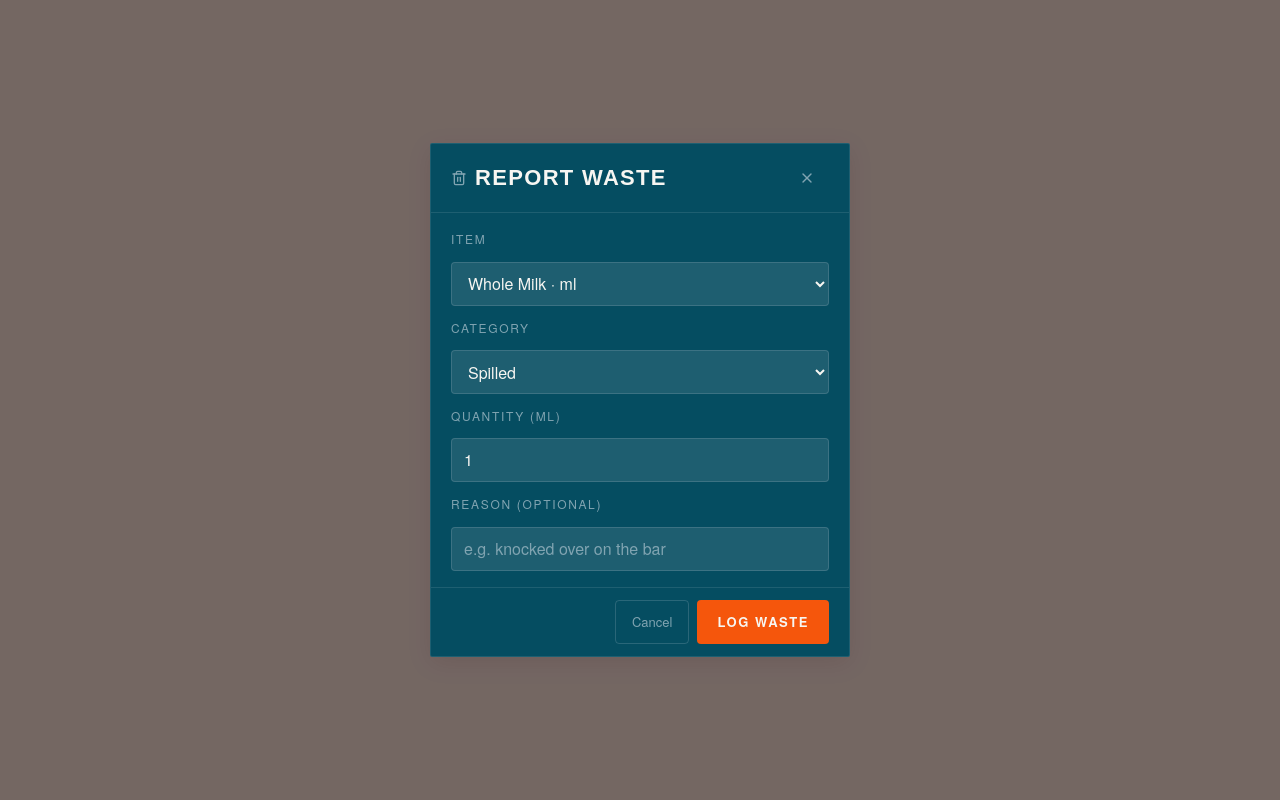
it: WasteDialog quantity › shows a visible message for 0 and logs nothing
Replace the text in the number field labelled "Quantity (ml)" with "0". click: {"x": 640, "y": 460}
box: 451,438 -> 829,482
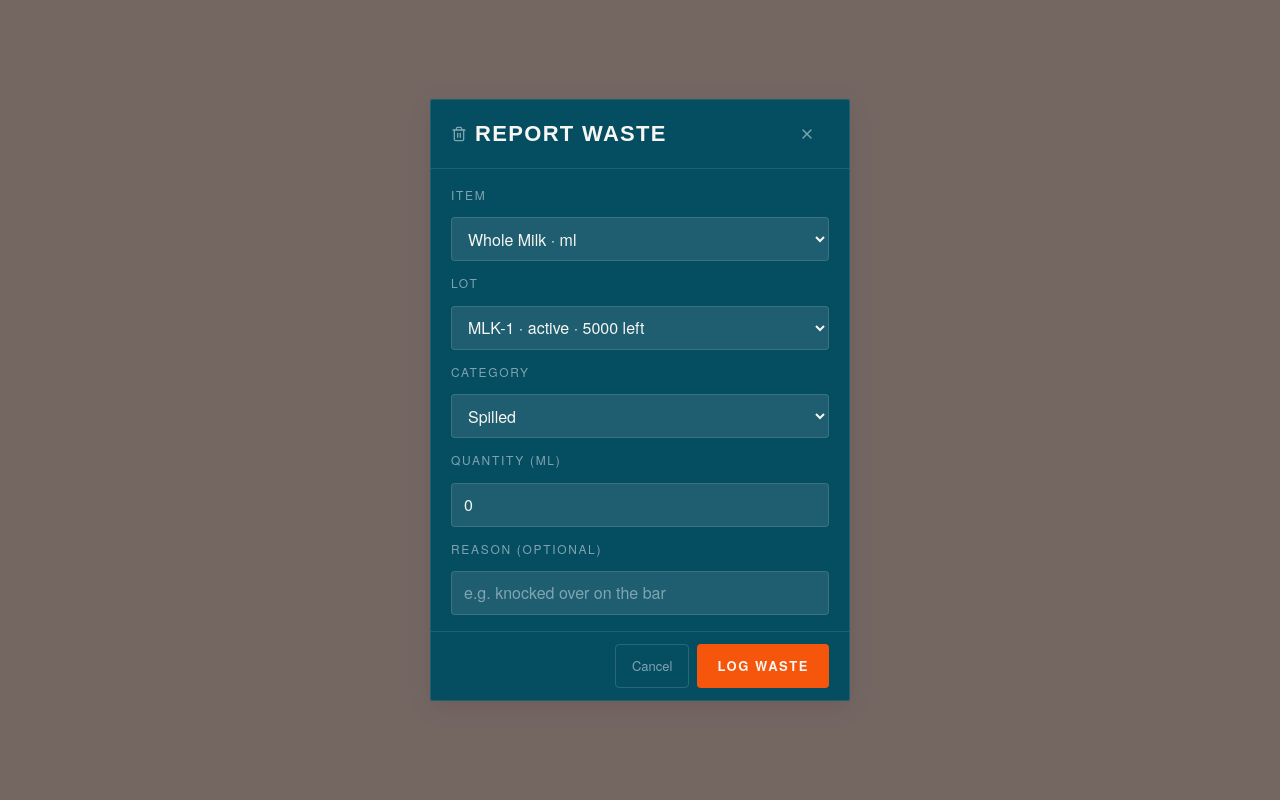
Click the button "Log Waste". click: {"x": 763, "y": 666}
box: 697,644 -> 829,688
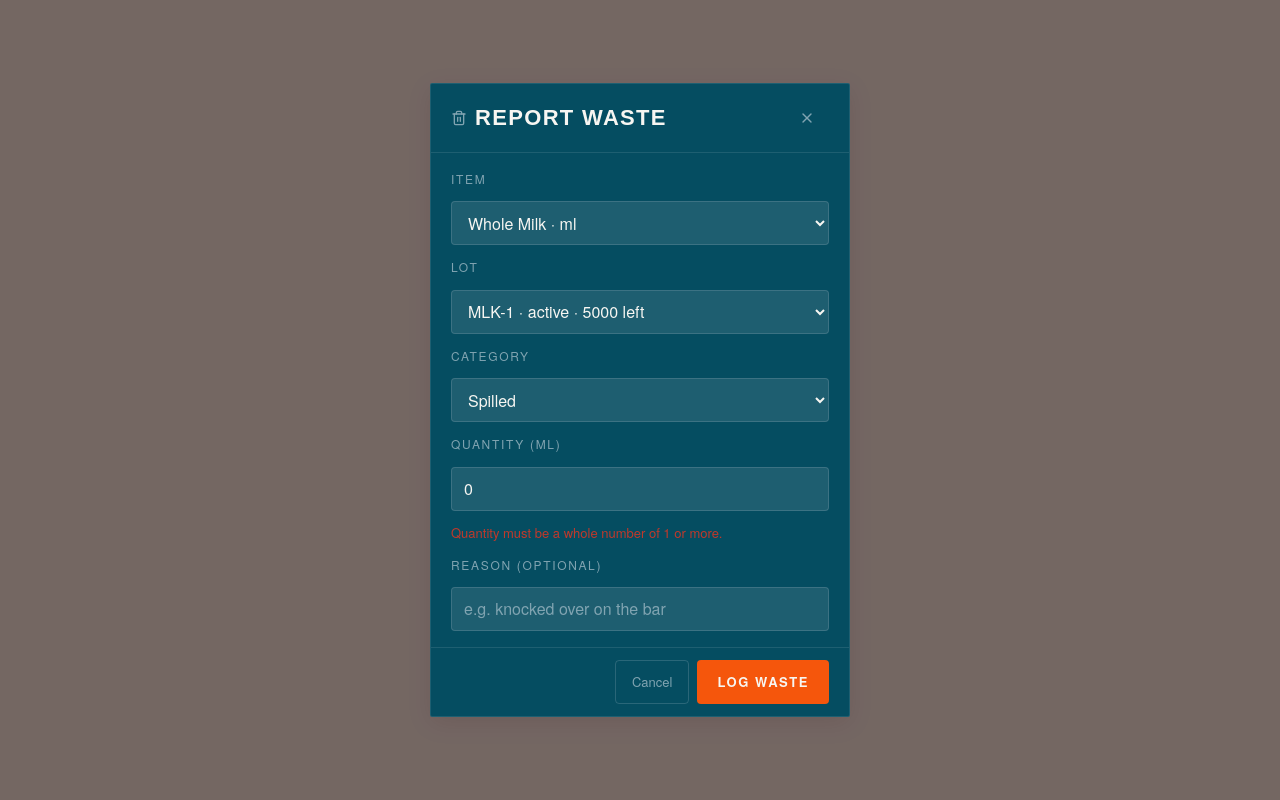
Now the message shows "Quantity", box 451,522 -> 722,542
